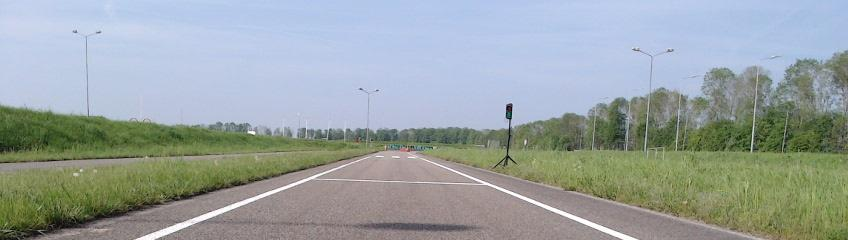TrafficLight-green: (506, 104, 512, 119)
